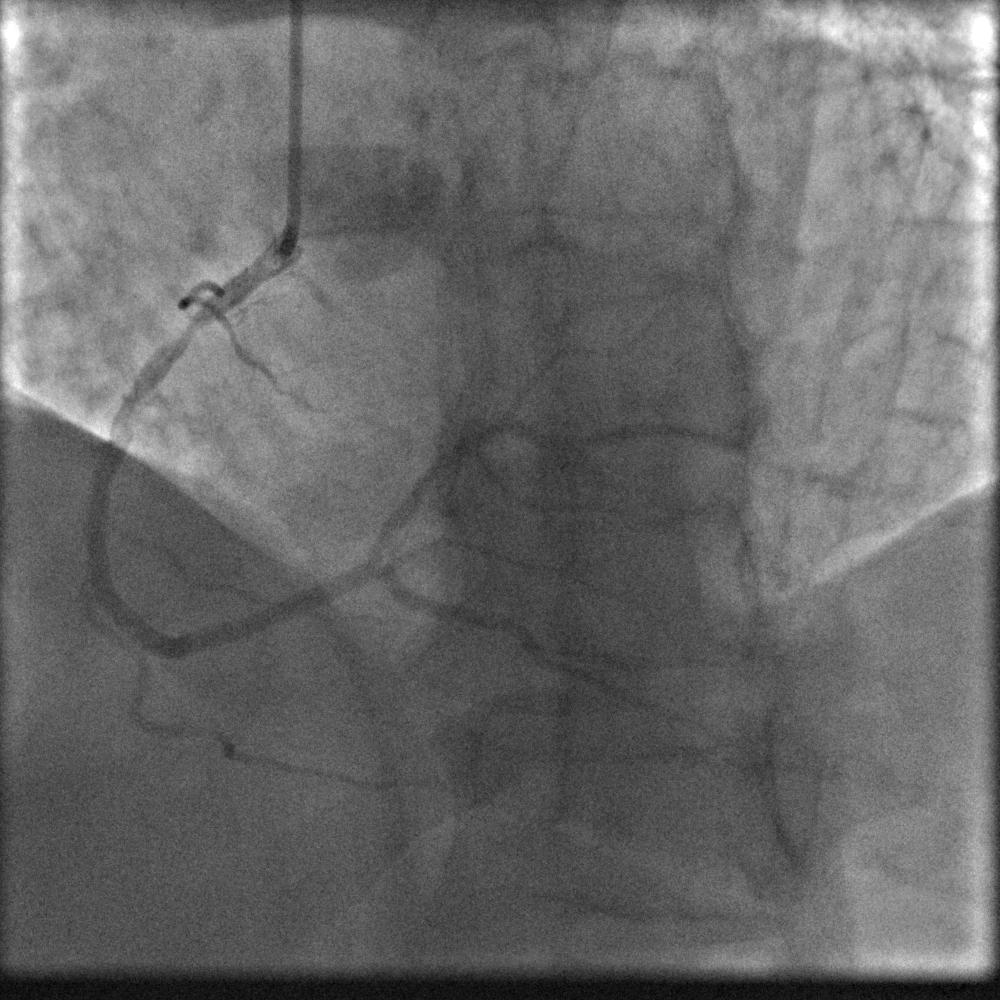Stenosis: (166, 311, 208, 360)
